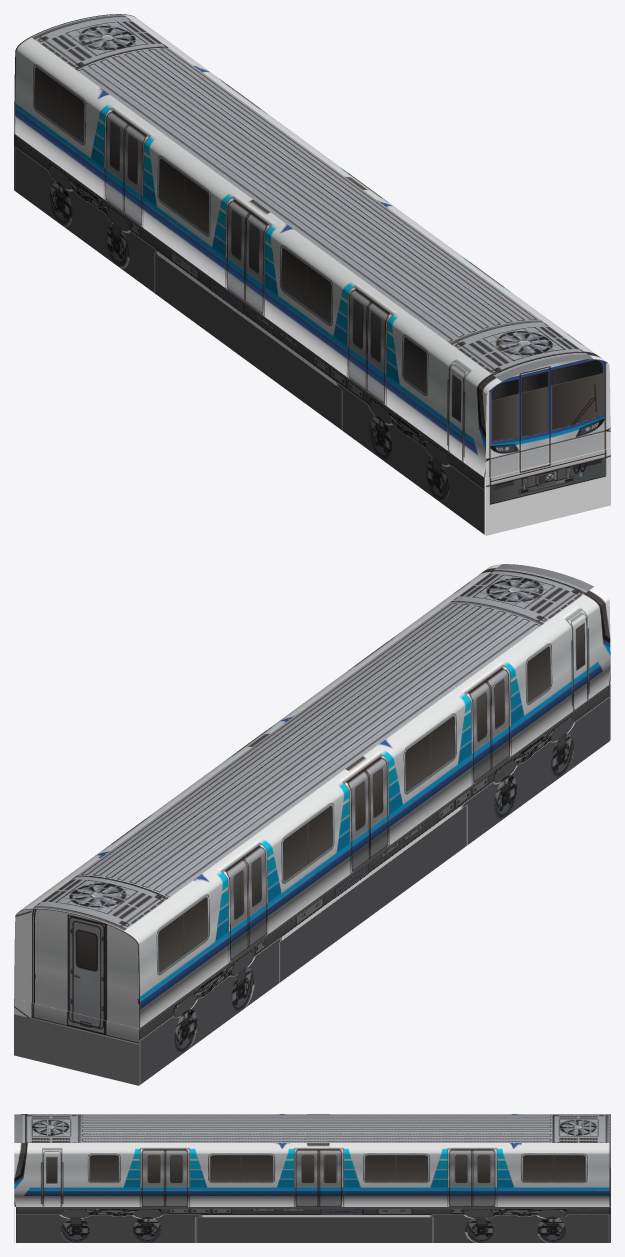
Rendered from car1.glb.
The picture shows the model from 3 angles, top to bottom: view 1: azimuth 30°, elevation 25°; view 2: azimuth 150°, elevation 25°; view 3: azimuth 270°, elevation 25°; orthographic projection. The views are drawn at different scales.
Parts seen in each view (by area): view 1: yokohamasub-3000v-car1; view 2: yokohamasub-3000v-car1; view 3: yokohamasub-3000v-car1.
Part boxes in pixels (x1,y1,x2,y2): yokohamasub-3000v-car1: (14,14,610,535); yokohamasub-3000v-car1: (14,564,610,1085); yokohamasub-3000v-car1: (14,1114,610,1242).
Size of the model in its own units: 2.76 by 3.28 by 18.07.
9 materials, 8 textured.
